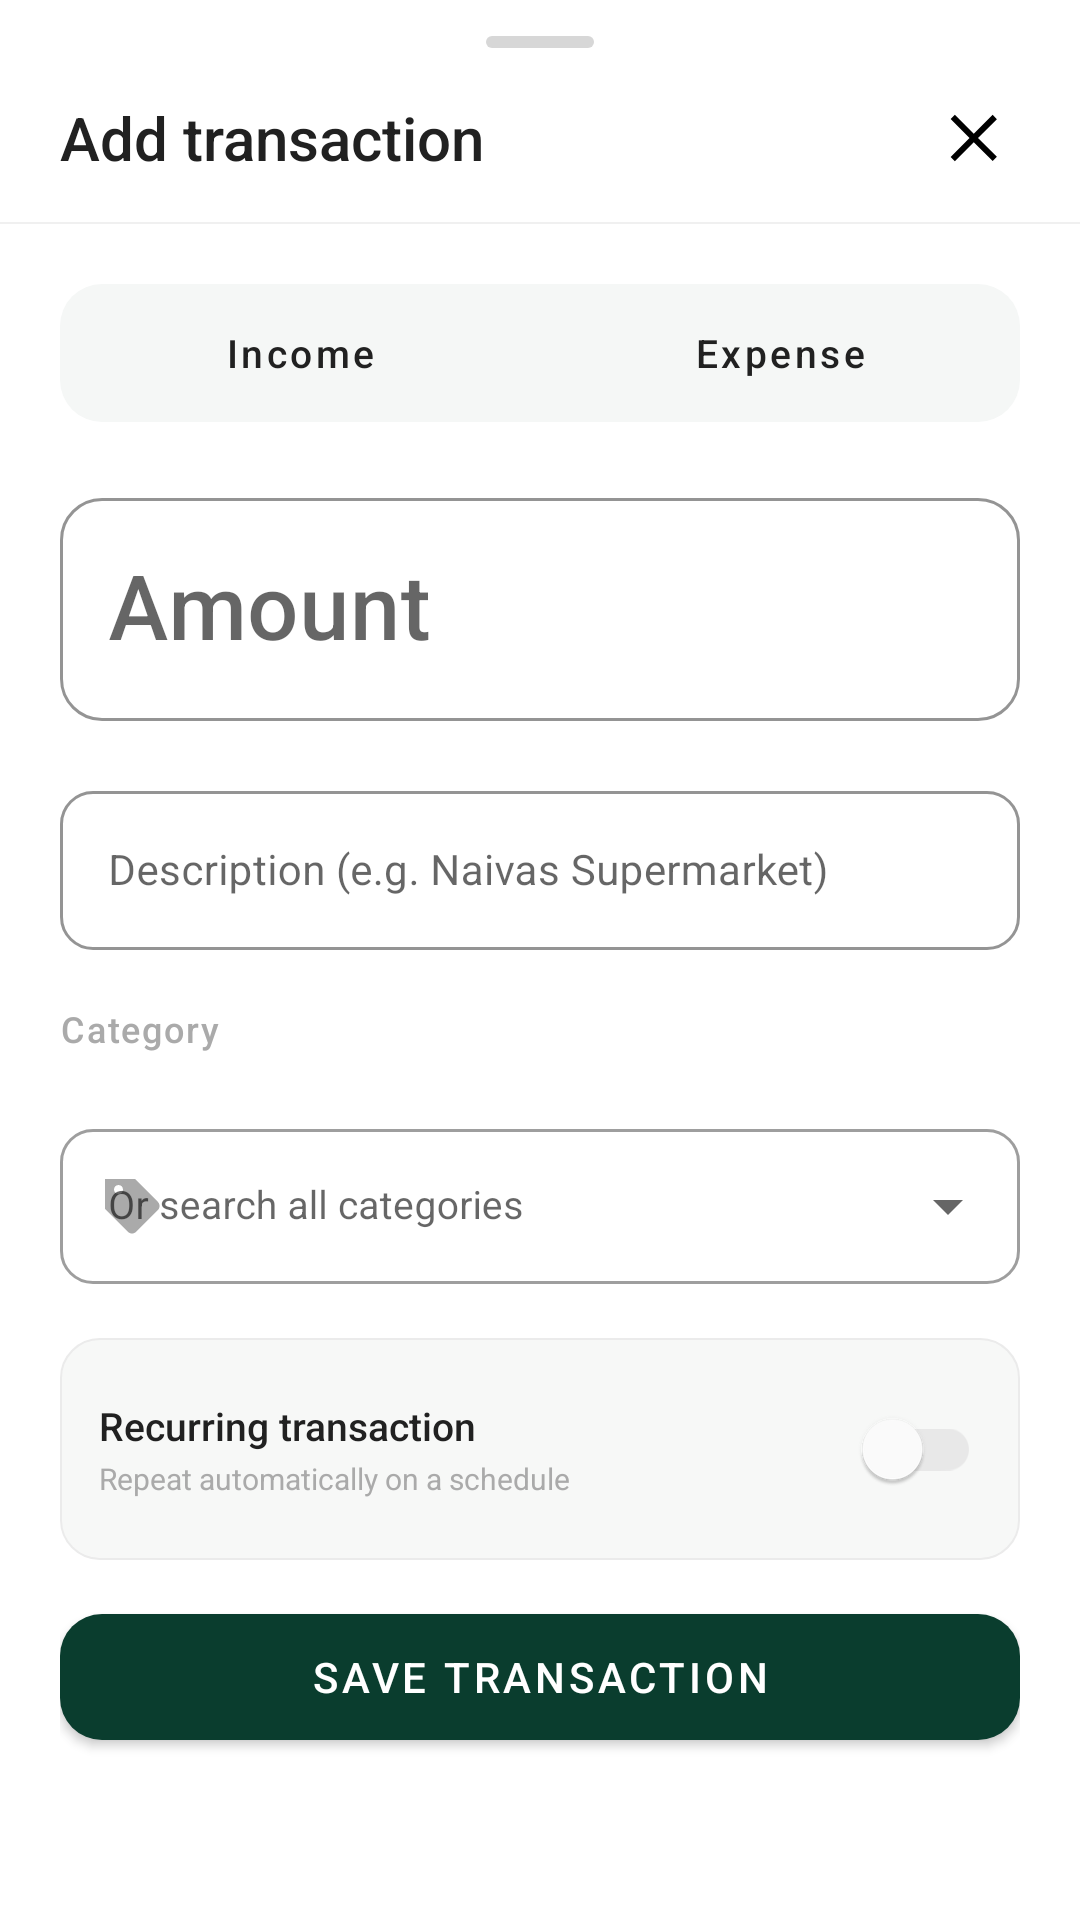

Icon click points for this 1080px x 1920px phone screenshot, format (x,y):
Close: (974,138)
